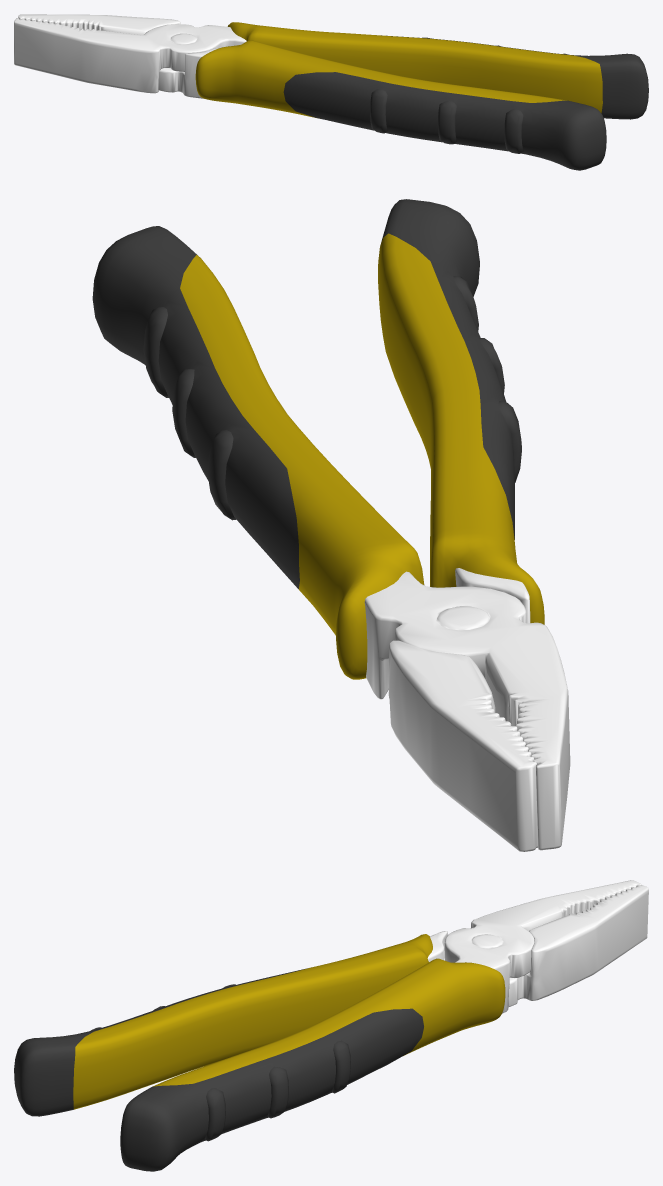
Rendered from alicates.fbx.
The picture shows the model from 3 angles, top to bottom: view 1: azimuth 30°, elevation 25°; view 2: azimuth 150°, elevation 25°; view 3: azimuth 270°, elevation 25°; orthographic projection. The views are drawn at different scales.
Parts seen in each view (by area): view 1: alicates; view 2: alicates; view 3: alicates.
Part boxes in pixels (x1,y1,x2,y2): alicates: (14,14,648,170); alicates: (92,199,570,851); alicates: (14,880,648,1171).
Size of the model in its own units: 6.57 by 0.9326 by 7.08.
